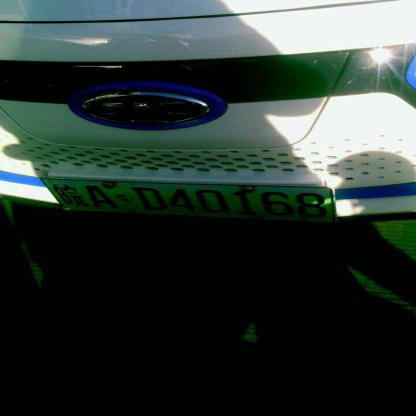lp: (40, 178, 66, 223)
